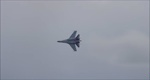maybay_muctieu: (55, 30, 82, 51)
